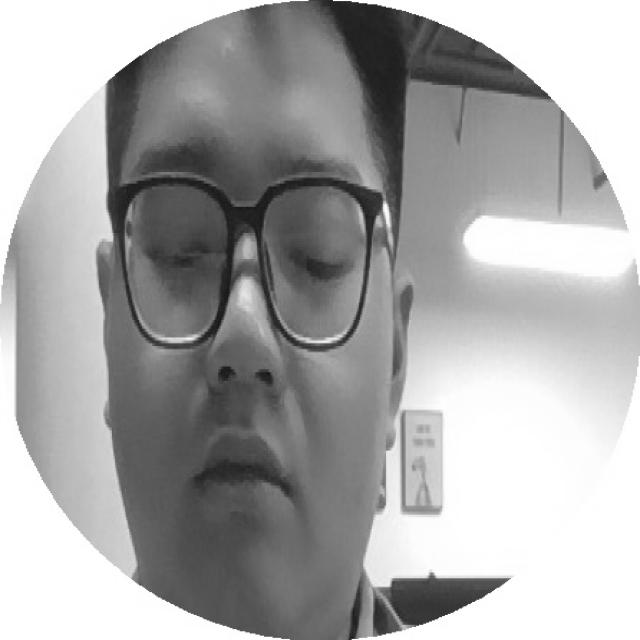real: (120, 52, 389, 640), (117, 204, 372, 298)
